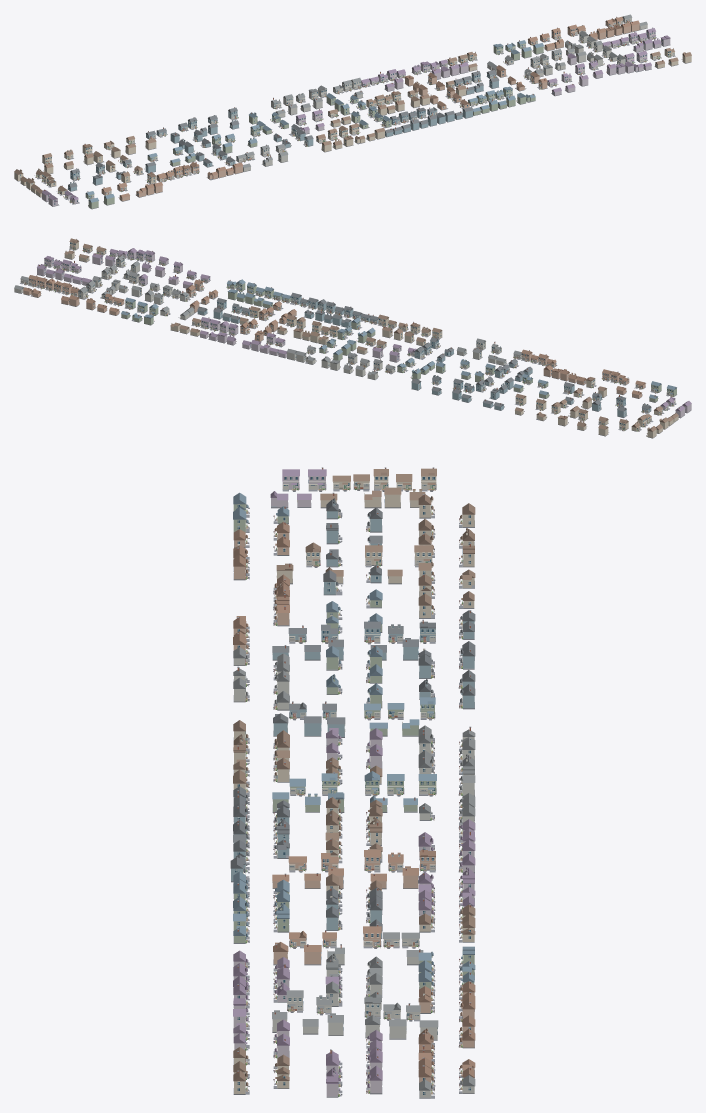
File: harrow-green.glb
3 views of the same model, one above another, from view 1: azimuth 30°, elevation 25°; view 2: azimuth 150°, elevation 25°; view 3: azimuth 270°, elevation 25° (orthographic). The views are drawn at different scales.
Bounding box in the file's own units: 565 × 14.51 × 95.11.
